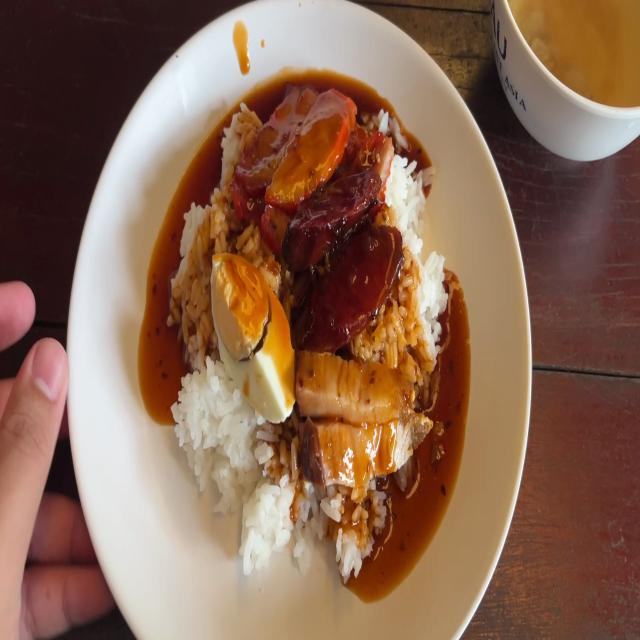01boiled_egg: (215, 256, 294, 420)
01chainese_sausage: (296, 170, 392, 335), (302, 230, 408, 330)
01crispy_pork: (295, 352, 431, 475), (293, 339, 427, 416), (301, 416, 435, 491)
01red_pork: (238, 86, 350, 200), (274, 92, 353, 201), (238, 84, 317, 184)
01red_pork_and_crispy_pork: (175, 96, 436, 570)
01rice: (218, 447, 309, 559), (181, 114, 246, 266), (180, 360, 243, 486), (311, 481, 391, 569), (391, 154, 427, 246), (418, 245, 442, 345)
